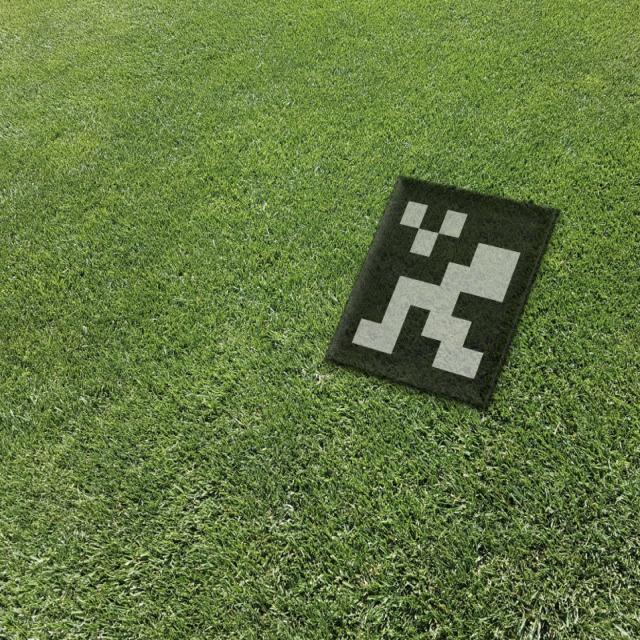marker: (314, 162, 576, 416)
